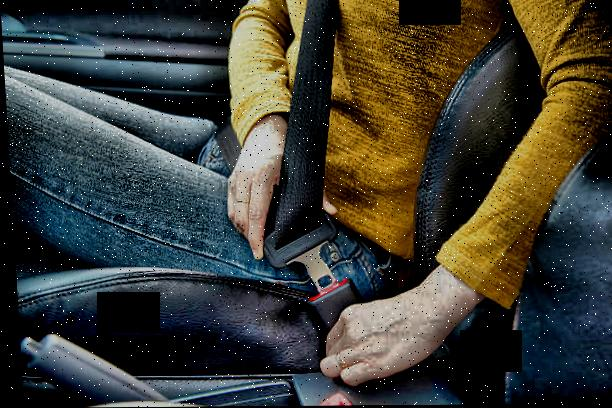seatbelt: (188, 1, 389, 368)
